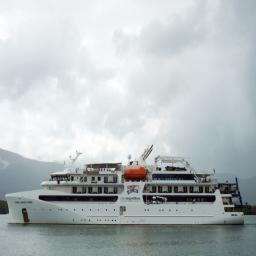cruises: (6, 148, 247, 229)
